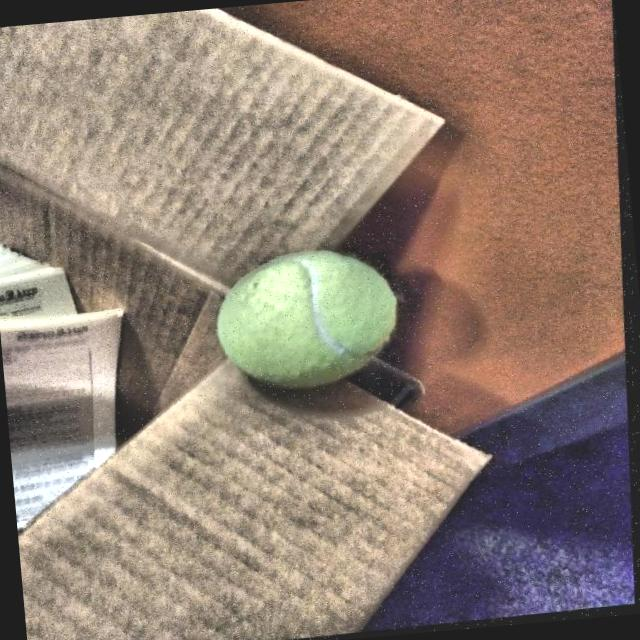tennis-ball: (216, 239, 408, 406)
